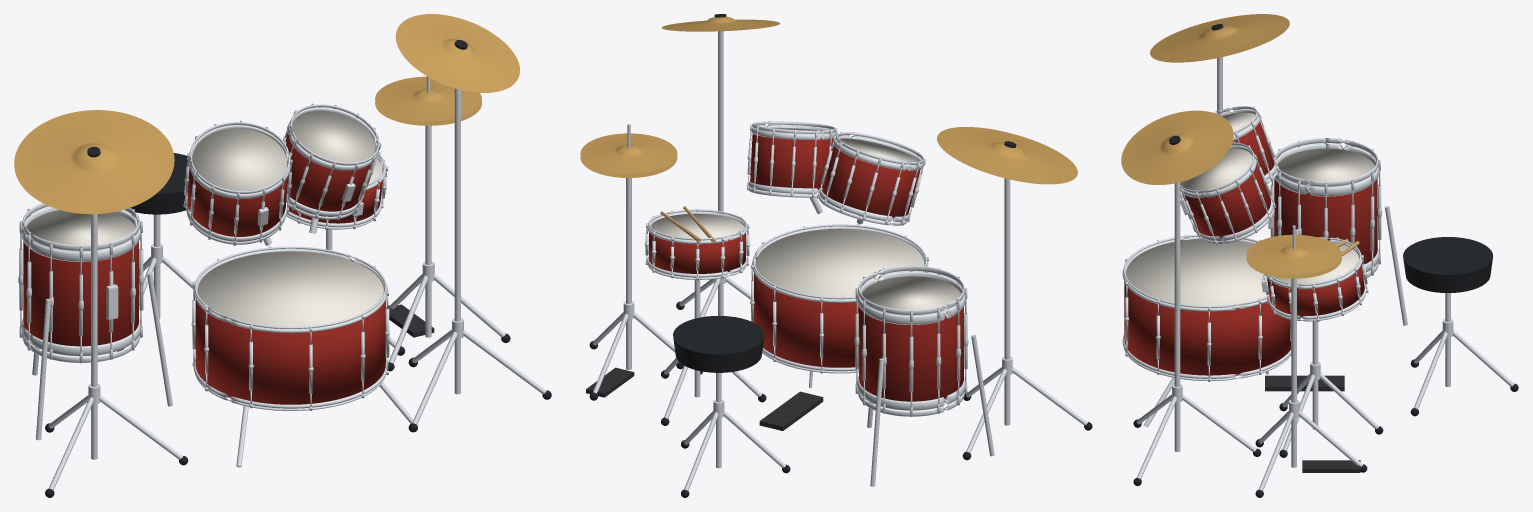
Rendered from batterie.glb.
3 views of the same model, side by side, from view 1: azimuth 30°, elevation 25°; view 2: azimuth 150°, elevation 25°; view 3: azimuth 270°, elevation 25° (orthographic). The views are drawn at different scales.
Parts seen in each view (by area): view 1: Batterie, caisse-claire_—_Maillechort_argente (×4), caisse-claire_—_Laque_acajou (×4), grosse-caisse_—_Laque_acajou, grosse-caisse_—_Peau_sablee, caisse-claire_—_Peau_sablee (×3), grosse-caisse_—_Maillechort_argente; view 2: Batterie, caisse-claire_—_Laque_acajou (×4), caisse-claire_—_Maillechort_argente (×4), grosse-caisse_—_Peau_sablee, grosse-caisse_—_Laque_acajou, caisse-claire_—_Peau_sablee (×3), grosse-caisse_—_Maillechort_argente; view 3: Batterie, caisse-claire_—_Laque_acajou (×4), caisse-claire_—_Maillechort_argente (×4), grosse-caisse_—_Laque_acajou, grosse-caisse_—_Peau_sablee, caisse-claire_—_Peau_sablee (×3), grosse-caisse_—_Maillechort_argente.
Boxes of the visible parts, x1=… form: Batterie: x1=14, y1=14, x2=551, y2=497; caisse-claire_—_Maillechort_argente (×4): x1=18, y1=103, x2=388, y2=363; caisse-claire_—_Laque_acajou (×4): x1=23, y1=133, x2=383, y2=346; grosse-caisse_—_Laque_acajou: x1=195, y1=260, x2=385, y2=404; grosse-caisse_—_Peau_sablee: x1=197, y1=251, x2=383, y2=329; caisse-claire_—_Peau_sablee (×3): x1=26, y1=110, x2=375, y2=251; grosse-caisse_—_Maillechort_argente: x1=191, y1=246, x2=389, y2=410; Batterie: x1=580, y1=14, x2=1092, y2=497; caisse-claire_—_Laque_acajou (×4): x1=649, y1=134, x2=963, y2=401; caisse-claire_—_Maillechort_argente (×4): x1=644, y1=121, x2=968, y2=416; grosse-caisse_—_Peau_sablee: x1=755, y1=228, x2=924, y2=299; grosse-caisse_—_Laque_acajou: x1=754, y1=257, x2=926, y2=367; caisse-claire_—_Peau_sablee (×3): x1=651, y1=138, x2=960, y2=315; grosse-caisse_—_Maillechort_argente: x1=750, y1=224, x2=928, y2=373; Batterie: x1=1121, y1=14, x2=1518, y2=497; caisse-claire_—_Laque_acajou (×4): x1=1182, y1=121, x2=1377, y2=316; caisse-claire_—_Maillechort_argente (×4): x1=1180, y1=106, x2=1382, y2=321; grosse-caisse_—_Laque_acajou: x1=1124, y1=240, x2=1290, y2=375; grosse-caisse_—_Peau_sablee: x1=1126, y1=239, x2=1269, y2=307; caisse-claire_—_Peau_sablee (×3): x1=1180, y1=148, x2=1374, y2=286; grosse-caisse_—_Maillechort_argente: x1=1122, y1=234, x2=1291, y2=381.
Bounding box in the file's own units: 1.98 × 1.36 × 1.5.
